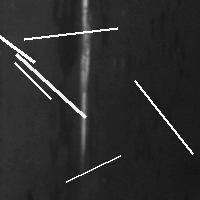scratches: (11, 49, 90, 122), (129, 75, 197, 158), (74, 1, 95, 159), (0, 5, 39, 67), (61, 150, 125, 186), (19, 23, 122, 44), (9, 57, 55, 103)
